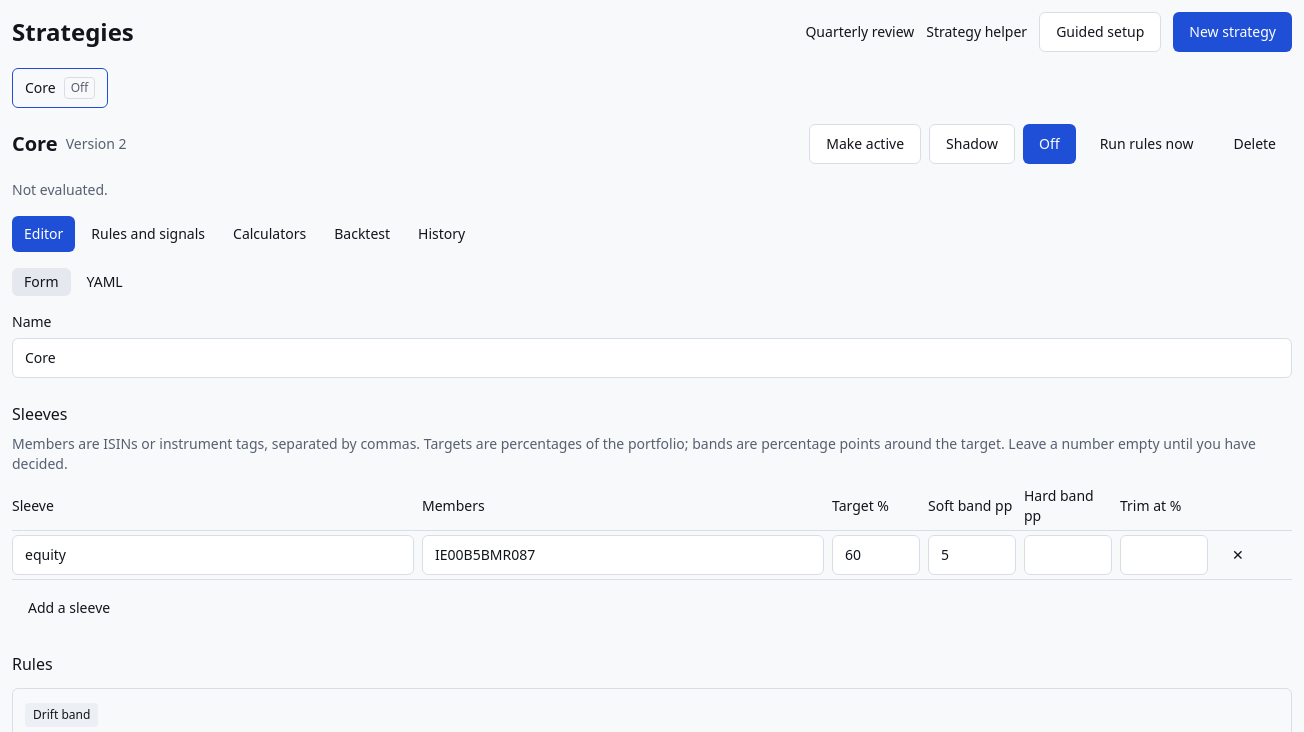
it: strategies (FR-ST-01, FR-ST-02) › makes a strategy active and runs the rules on demand
Click the button "Make active". click: (865, 144)
box: top-left (809, 124), bottom-right (921, 164)
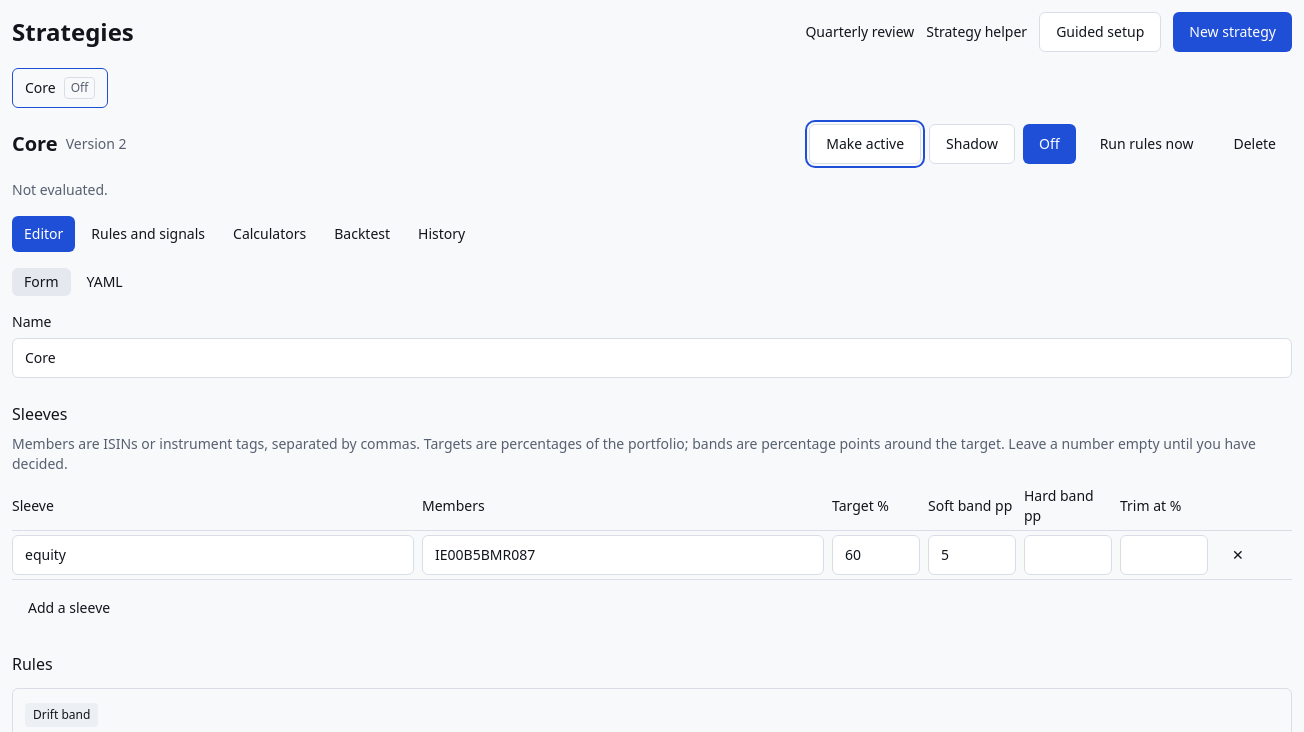
Click the button "Run rules now". click: (1146, 144)
box: top-left (1084, 124), bottom-right (1209, 164)
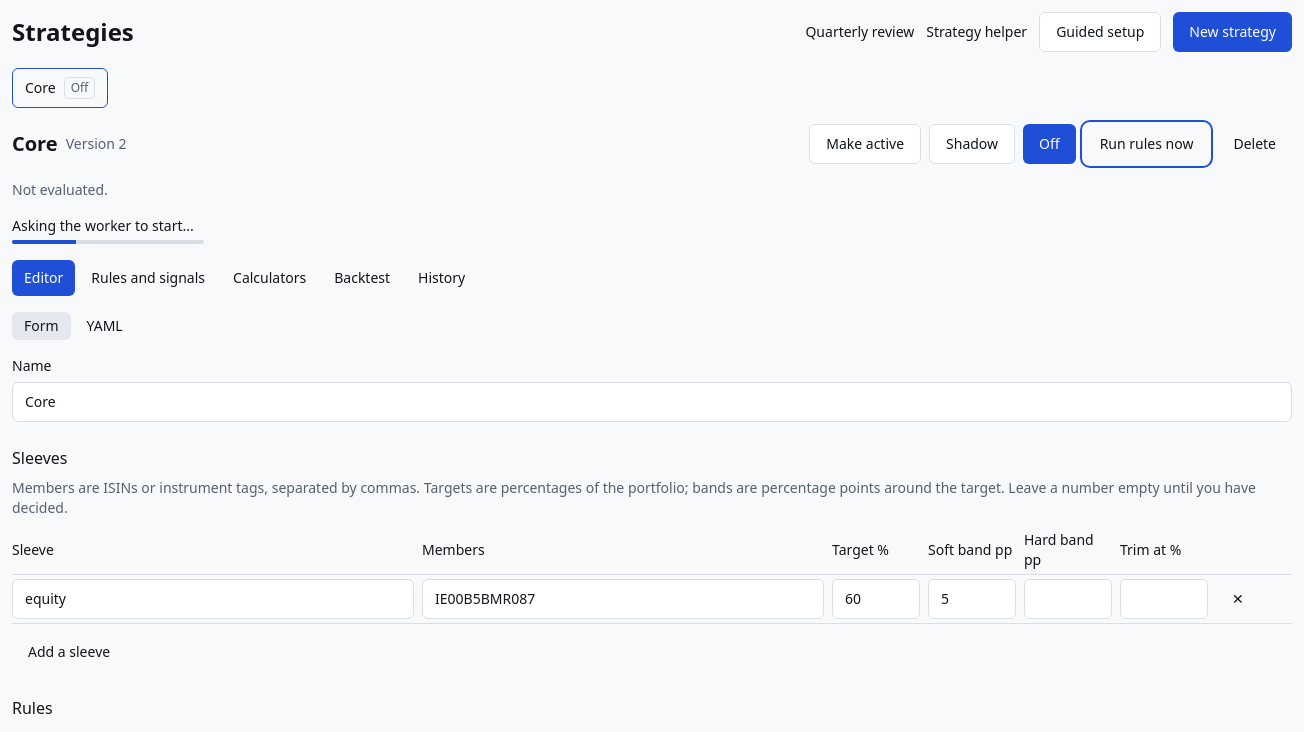
Expected: the text "Asking the worker to start..." is shown, top-left (12, 216), bottom-right (194, 235)
